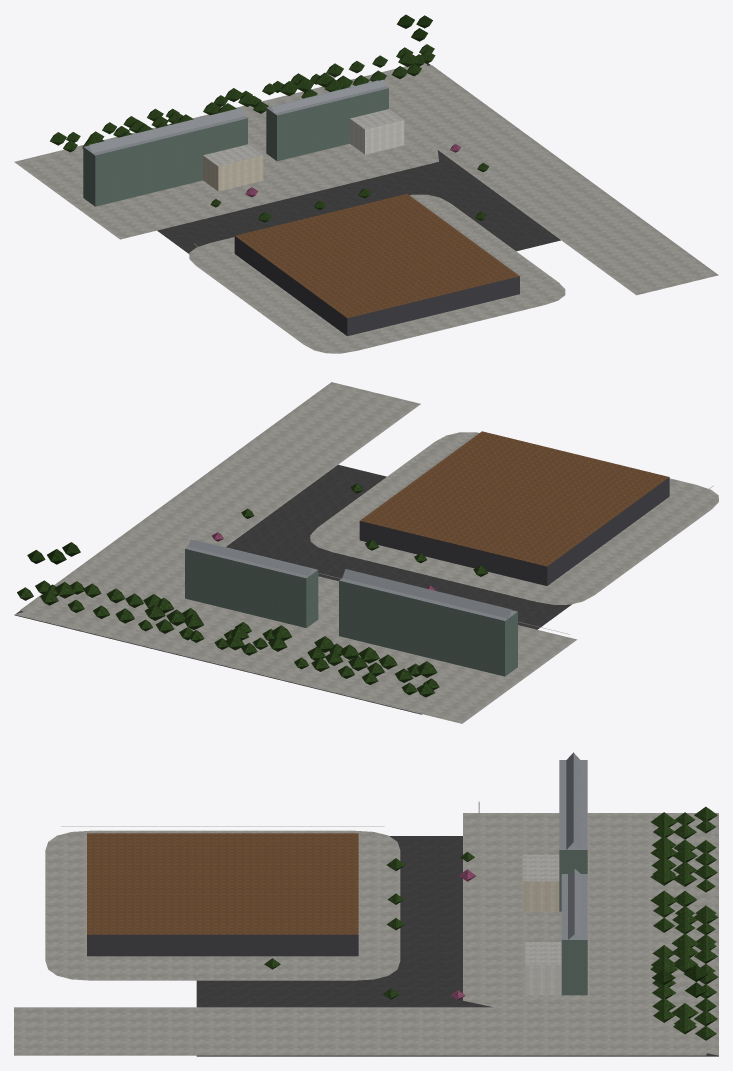
The model's file is cidade_S07_07_lod.gltf.
The picture shows the model from 3 angles, top to bottom: view 1: azimuth 30°, elevation 25°; view 2: azimuth 150°, elevation 25°; view 3: azimuth 270°, elevation 25°; orthographic projection. The views are drawn at different scales.
Visible parts, largest first — view 1: S07_07_Chao_LOD2, S07_07_Edificios_LOD1, S07_07_Silhueta_LOD2, S07_07_Vegetacao_LOD2; view 2: S07_07_Chao_LOD2, S07_07_Edificios_LOD1, S07_07_Silhueta_LOD2, S07_07_Vegetacao_LOD2; view 3: S07_07_Chao_LOD2, S07_07_Edificios_LOD1, S07_07_Vegetacao_LOD2, S07_07_Silhueta_LOD2.
Part boxes in pixels (x1,y1,x2,y2): S07_07_Chao_LOD2: (14, 63, 718, 353); S07_07_Edificios_LOD1: (83, 79, 519, 341); S07_07_Silhueta_LOD2: (83, 80, 388, 206); S07_07_Vegetacao_LOD2: (50, 14, 488, 222); S07_07_Chao_LOD2: (14, 382, 718, 723); S07_07_Edificios_LOD1: (185, 431, 713, 676); S07_07_Silhueta_LOD2: (185, 540, 517, 675); S07_07_Vegetacao_LOD2: (17, 483, 487, 697); S07_07_Chao_LOD2: (14, 813, 718, 1056); S07_07_Edificios_LOD1: (61, 752, 587, 995); S07_07_Vegetacao_LOD2: (264, 806, 718, 1040); S07_07_Silhueta_LOD2: (559, 760, 587, 995).
Bounding box in the file's own units: 111 × 15.71 × 135.
Materials: 12 (11 with a texture image).
